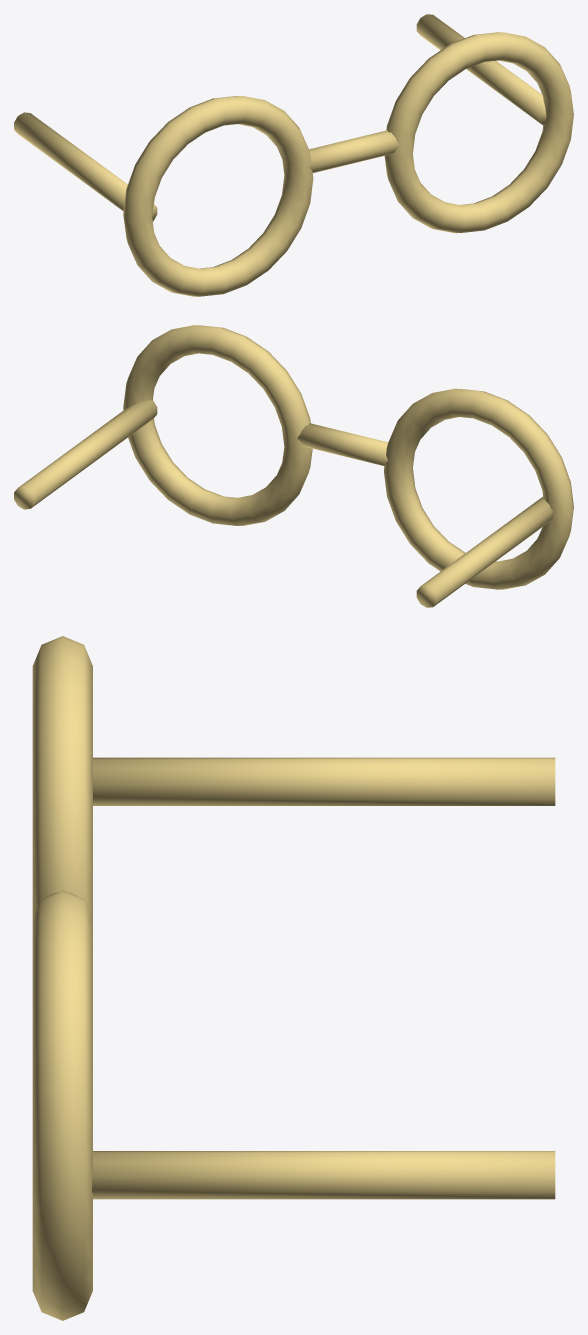
Rendered from costume_tiny_glasses.glb.
3 renders of one model, top to bottom at view 1: azimuth 30°, elevation 25°; view 2: azimuth 150°, elevation 25°; view 3: azimuth 270°, elevation 25°, orthographic. The views are drawn at different scales.
Parts seen in each view (by area): view 1: costume_glasses_rim_L, costume_glasses_rim_R, costume_glasses_arm_L, costume_glasses_arm_R, costume_glasses_bridge; view 2: costume_glasses_rim_R, costume_glasses_rim_L, costume_glasses_arm_R, costume_glasses_arm_L, costume_glasses_bridge; view 3: costume_glasses_rim_R, costume_glasses_arm_R, costume_glasses_arm_L, costume_glasses_rim_L.
Boxes of the visible parts, x1,y1,x2,y2 form: costume_glasses_rim_L: (123, 96, 313, 296); costume_glasses_rim_R: (384, 32, 573, 233); costume_glasses_arm_L: (14, 112, 157, 221); costume_glasses_arm_R: (416, 14, 546, 125); costume_glasses_bridge: (309, 130, 399, 173); costume_glasses_rim_R: (123, 325, 312, 525); costume_glasses_rim_L: (384, 388, 573, 589); costume_glasses_arm_R: (14, 400, 157, 509); costume_glasses_arm_L: (416, 496, 552, 607); costume_glasses_bridge: (297, 423, 388, 465); costume_glasses_rim_R: (32, 890, 92, 1320); costume_glasses_arm_R: (92, 1151, 555, 1199); costume_glasses_arm_L: (93, 757, 555, 805); costume_glasses_rim_L: (32, 636, 92, 919).
Size of the model in its own units: 0.0378 by 0.0158 by 0.0191.
